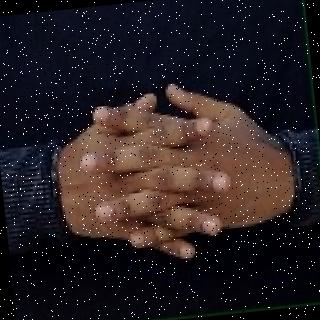W: (57, 68, 296, 284)
